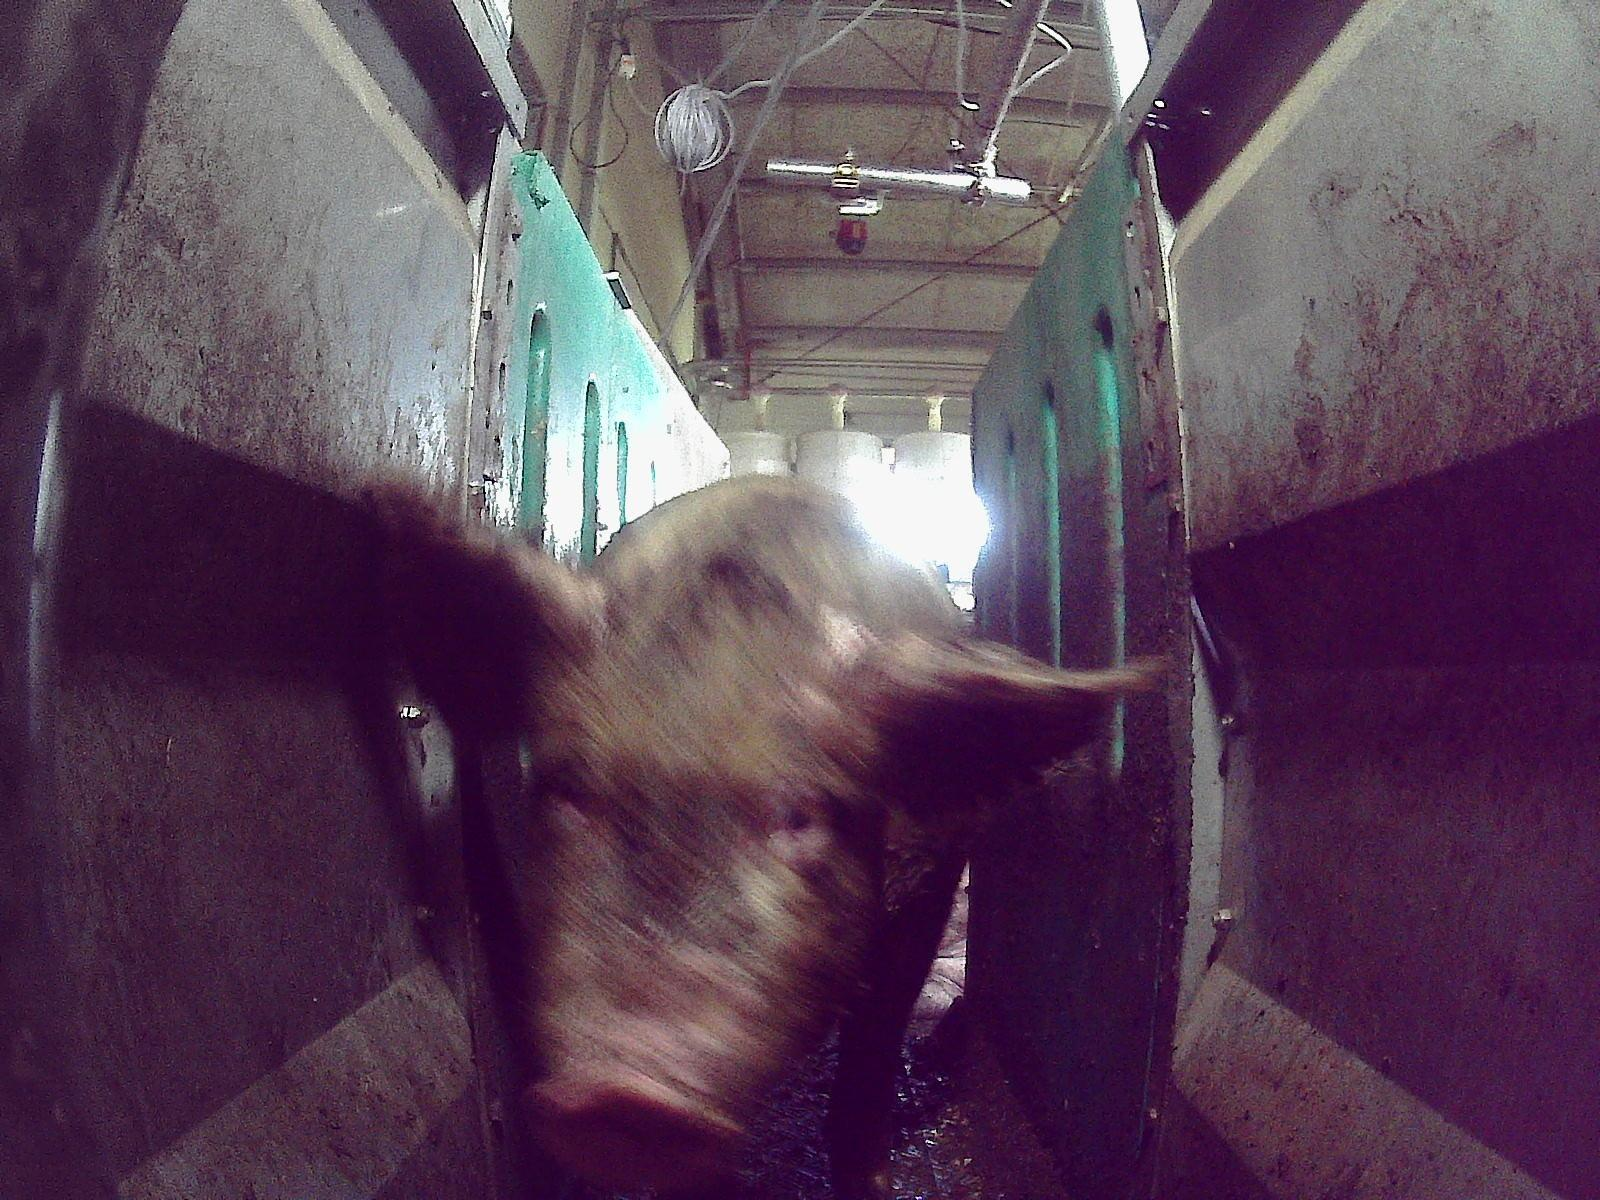Face: (475, 572, 892, 1190)
